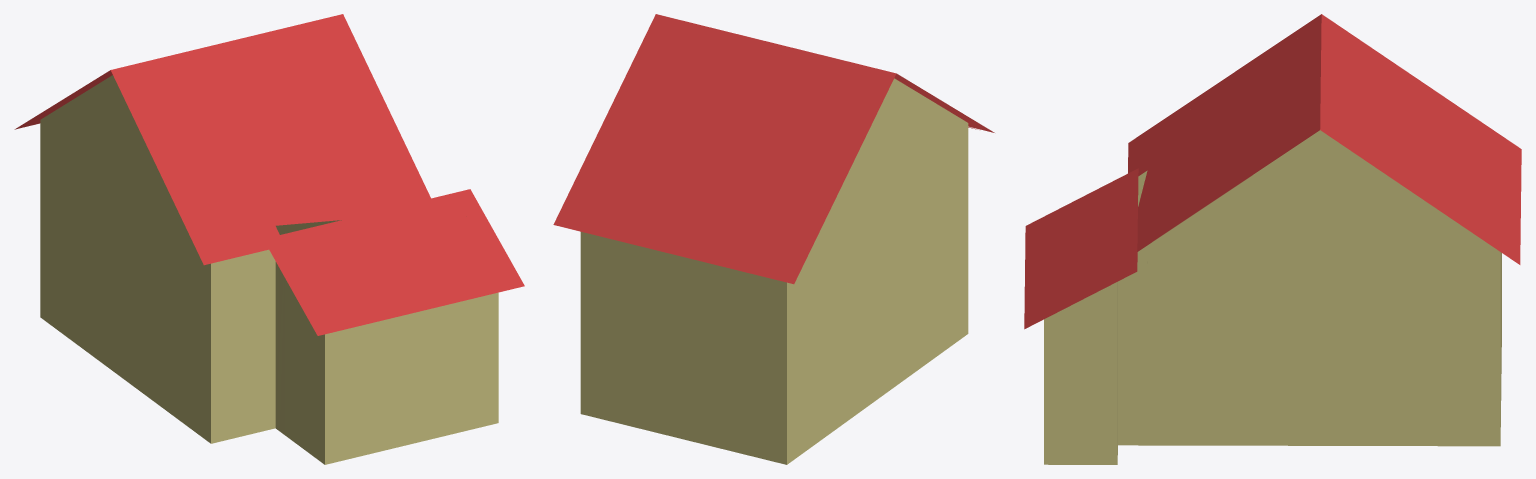
The picture shows the model from 3 angles, left to right: view 1: azimuth 30°, elevation 25°; view 2: azimuth 150°, elevation 25°; view 3: azimuth 270°, elevation 25°; orthographic projection. The views are drawn at different scales.
Bounding box in the file's own units: 12.18 × 18.87 × 13.57.
